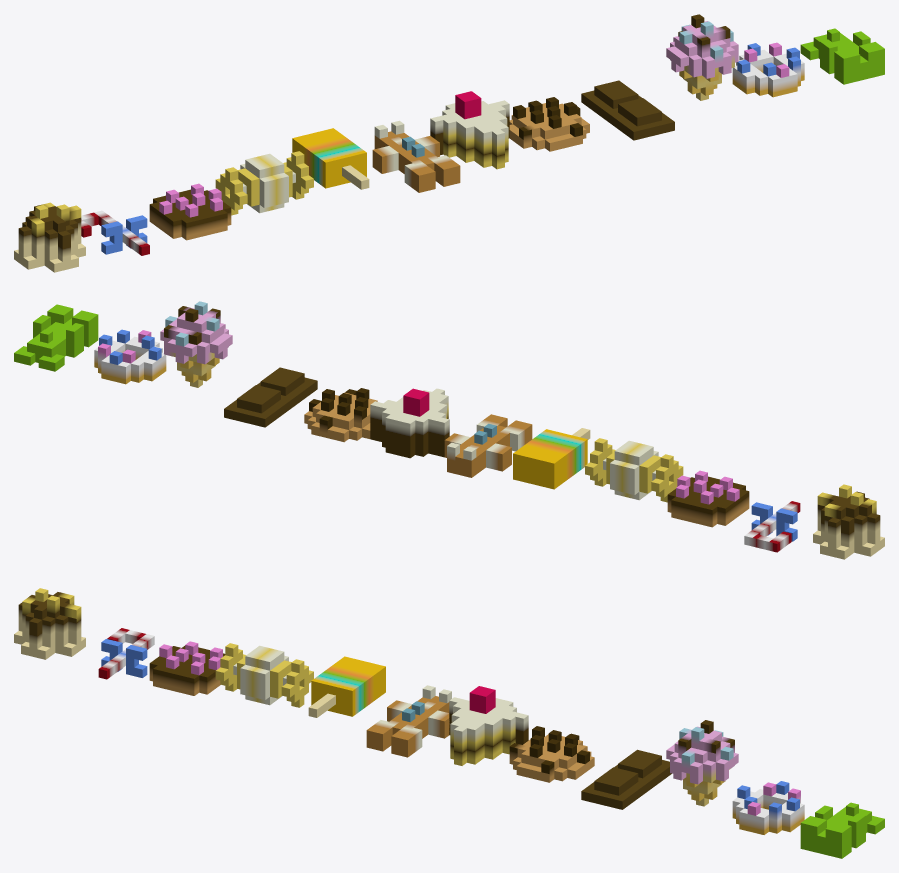
The model's file is candies.dae.
3 renders of one model, top to bottom at view 1: azimuth 30°, elevation 25°; view 2: azimuth 150°, elevation 25°; view 3: azimuth 330°, elevation 25°, orthographic.
Visible parts, largest first — view 1: candy12, candy1, candy11, candy9, candy10, candy5, candy3, candy2, candy4, candy6, candry7, candy8; view 2: candy12, candy1, candy9, candy11, candy10, candy4, candy2, candy5, candy6, candry7, candy3, candy8; view 3: candy12, candy1, candy9, candy11, candy10, candy2, candy3, candy4, candry7, candy5, candy6, candy8.
Boxes of the visible parts, x1,y1,x2,y2 form: candy12: (430,91,509,169); candy1: (215,151,313,215); candy11: (666,14,738,100); candy9: (14,202,85,272); candy10: (372,120,460,192); candy5: (149,183,231,240); candy3: (509,97,589,151); candy2: (292,128,369,189); candy4: (800,28,884,84); candy6: (581,80,674,140); candry7: (732,42,804,97); candy8: (81,210,149,255); candy12: (370,388,449,458); candy1: (585,438,683,502); candy9: (813,484,884,559); candy11: (160,301,232,387); candy10: (444,414,532,477); candy4: (14,304,98,371); candy2: (513,428,590,489); candy5: (667,470,749,527); candy6: (224,367,317,427); candry7: (94,329,166,384); candy3: (304,388,377,442); candy8: (744,501,800,552); candy12: (449,686,528,765); candy1: (215,643,313,707); candy9: (14,588,85,659); candy11: (666,720,738,806); candy10: (366,685,451,757); candy2: (308,656,385,717); candy3: (509,726,594,782); candy4: (800,802,884,858); candry7: (732,781,804,834); candy5: (149,641,225,695); candy6: (581,749,671,809); candy8: (98,628,154,679).
Bounding box in the file's own units: 102 × 10 × 11.
Materials: 1 (1 with a texture image).
